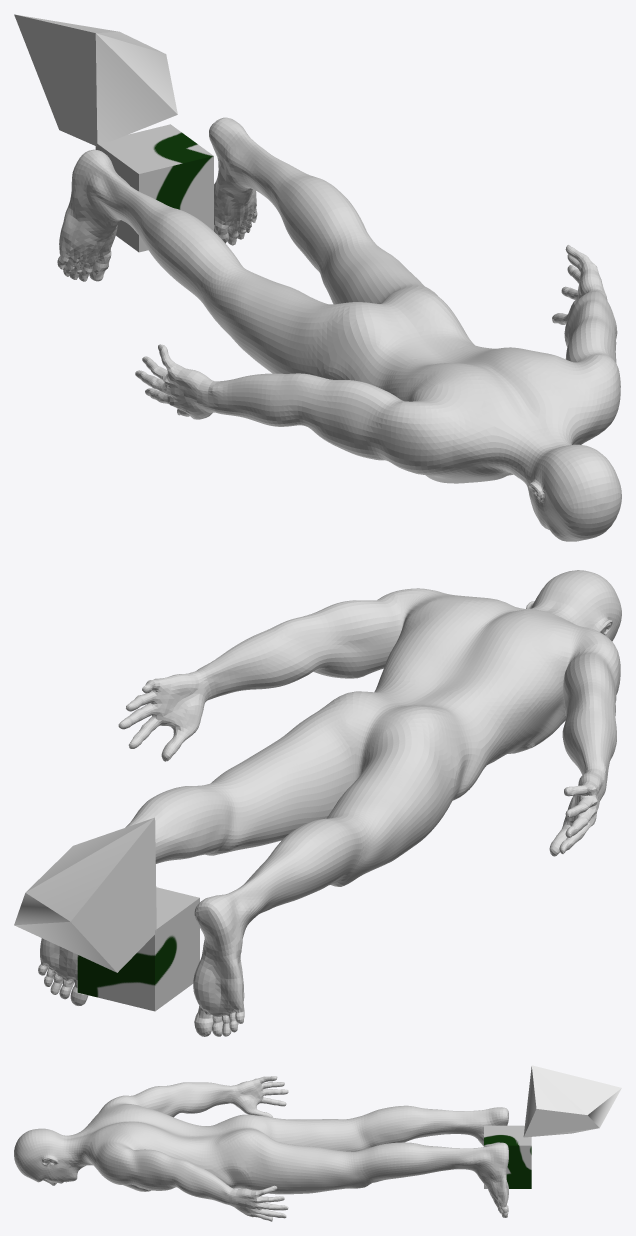
3 views of the same model, one above another, from view 1: azimuth 30°, elevation 25°; view 2: azimuth 150°, elevation 25°; view 3: azimuth 270°, elevation 25° (orthographic). The views are drawn at different scales.
Visible parts, largest first — view 1: FinalBaseMesh, Cube.001, Cube.002; view 2: FinalBaseMesh, Cube.001, Cube.002; view 3: FinalBaseMesh, Cube.001, Cube.002.
Boxes of the visible parts, x1,y1,x2,y2 form: FinalBaseMesh: [57, 117, 621, 541]; Cube.001: [14, 14, 177, 146]; Cube.002: [95, 124, 213, 252]; FinalBaseMesh: [38, 570, 621, 1036]; Cube.001: [14, 817, 156, 972]; Cube.002: [77, 887, 199, 1011]; FinalBaseMesh: [14, 1076, 508, 1221]; Cube.001: [523, 1065, 621, 1137]; Cube.002: [484, 1125, 531, 1188].
Bounding box in the file's own units: 11.69 × 5.71 × 25.47.
3 materials, 1 textured.
